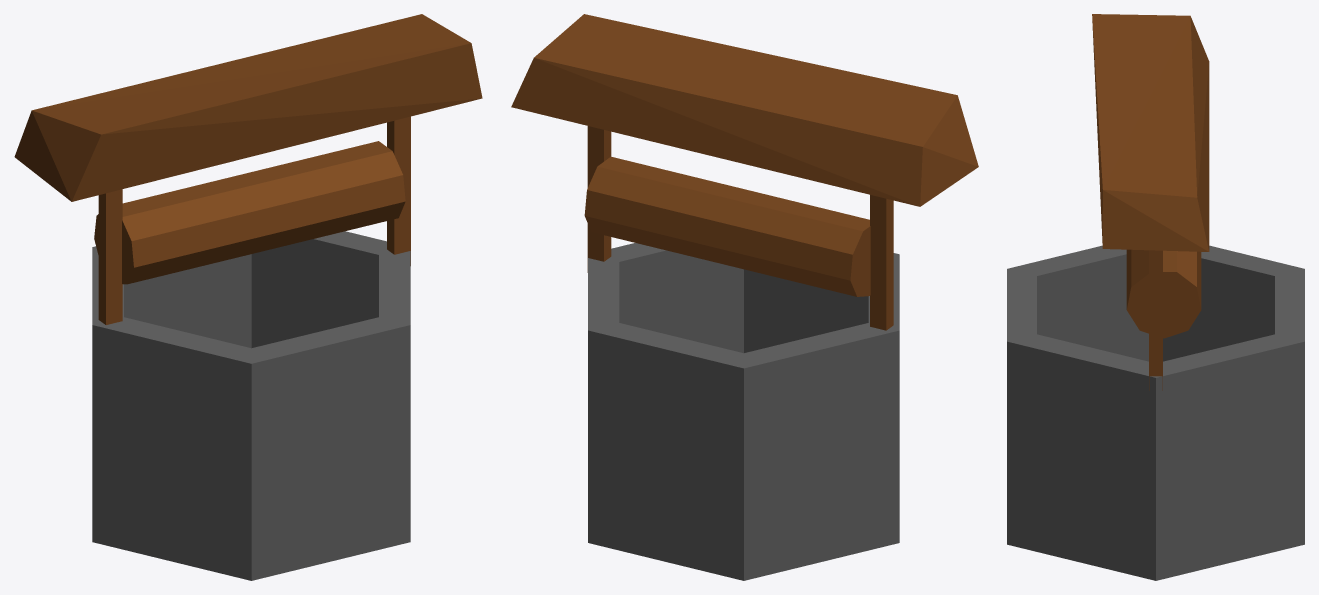
Rendered from колодец.fbx.
3 renders of one model, left to right at view 1: azimuth 30°, elevation 25°; view 2: azimuth 150°, elevation 25°; view 3: azimuth 270°, elevation 25°, orthographic. The views are drawn at different scales.
Parts seen in each view (by area): view 1: Объект_Цилиндр_1; view 2: Объект_Цилиндр_1; view 3: Объект_Цилиндр_1.
Boxes of the visible parts, bbox=[...] form: Объект_Цилиндр_1: bbox=[14, 14, 482, 580]; Объект_Цилиндр_1: bbox=[511, 14, 978, 580]; Объект_Цилиндр_1: bbox=[1007, 14, 1304, 580].
Size of the model in its own units: 202 by 202 by 133.
